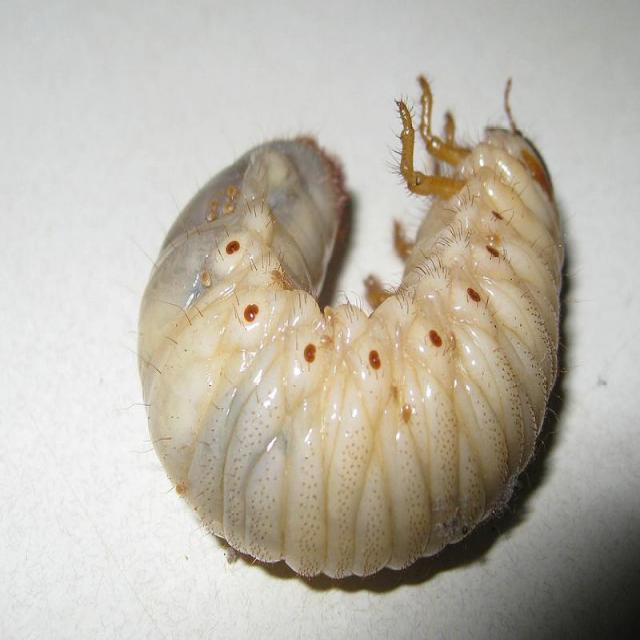Grub-Adult-: (135, 65, 569, 589)
